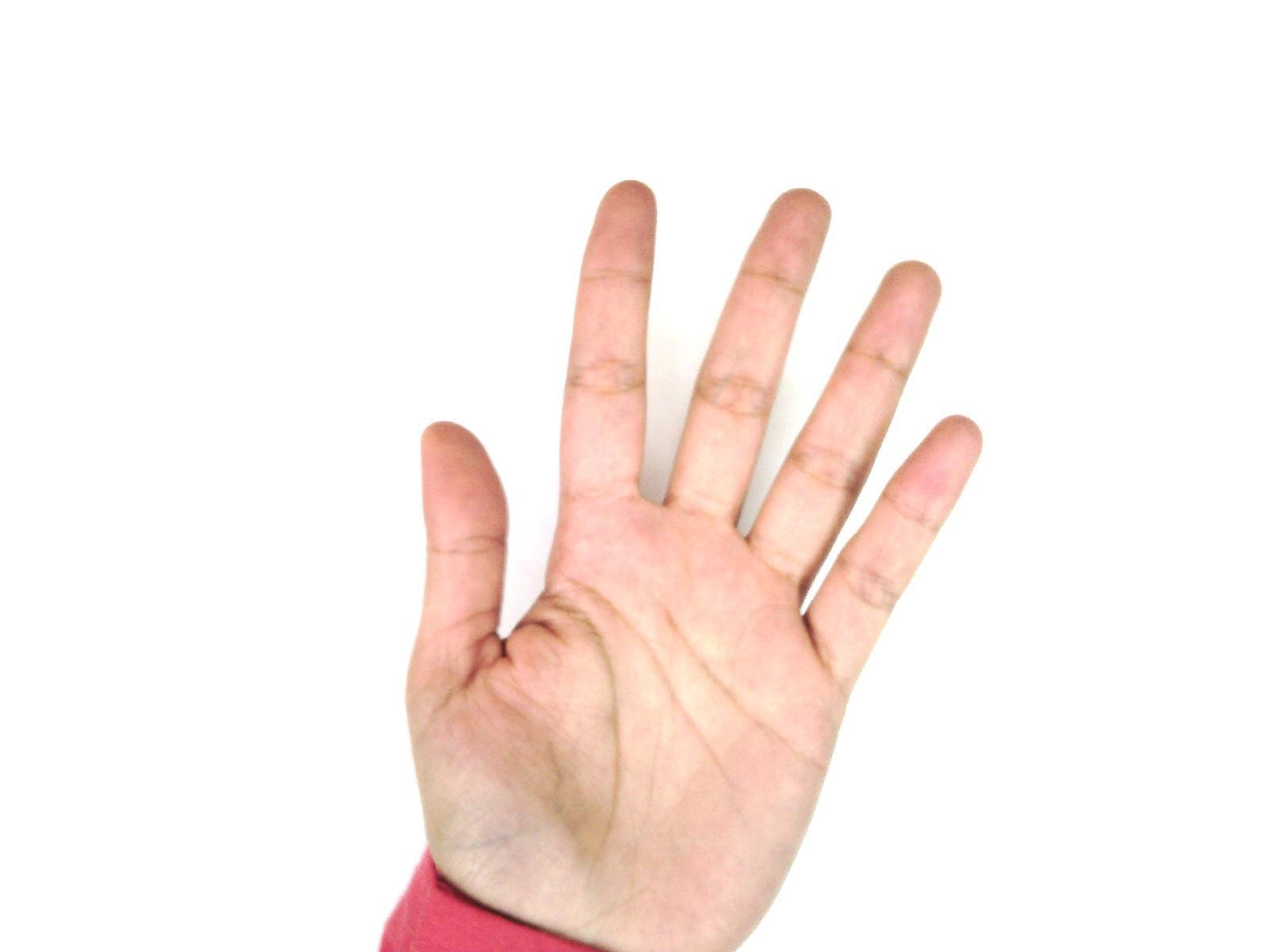open_palm: (401, 178, 985, 951)
